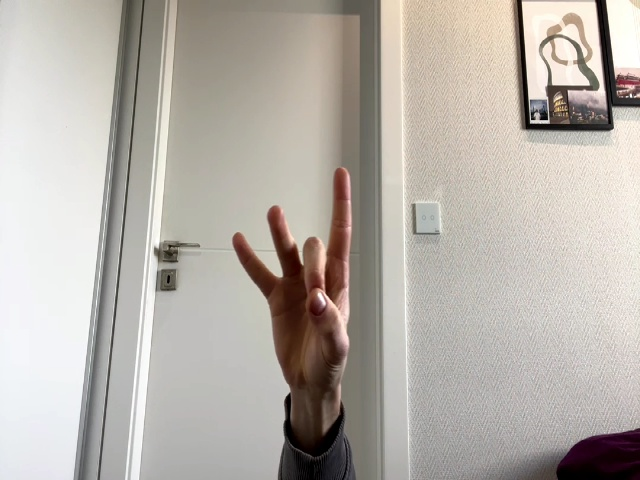G: (233, 167, 352, 411)
